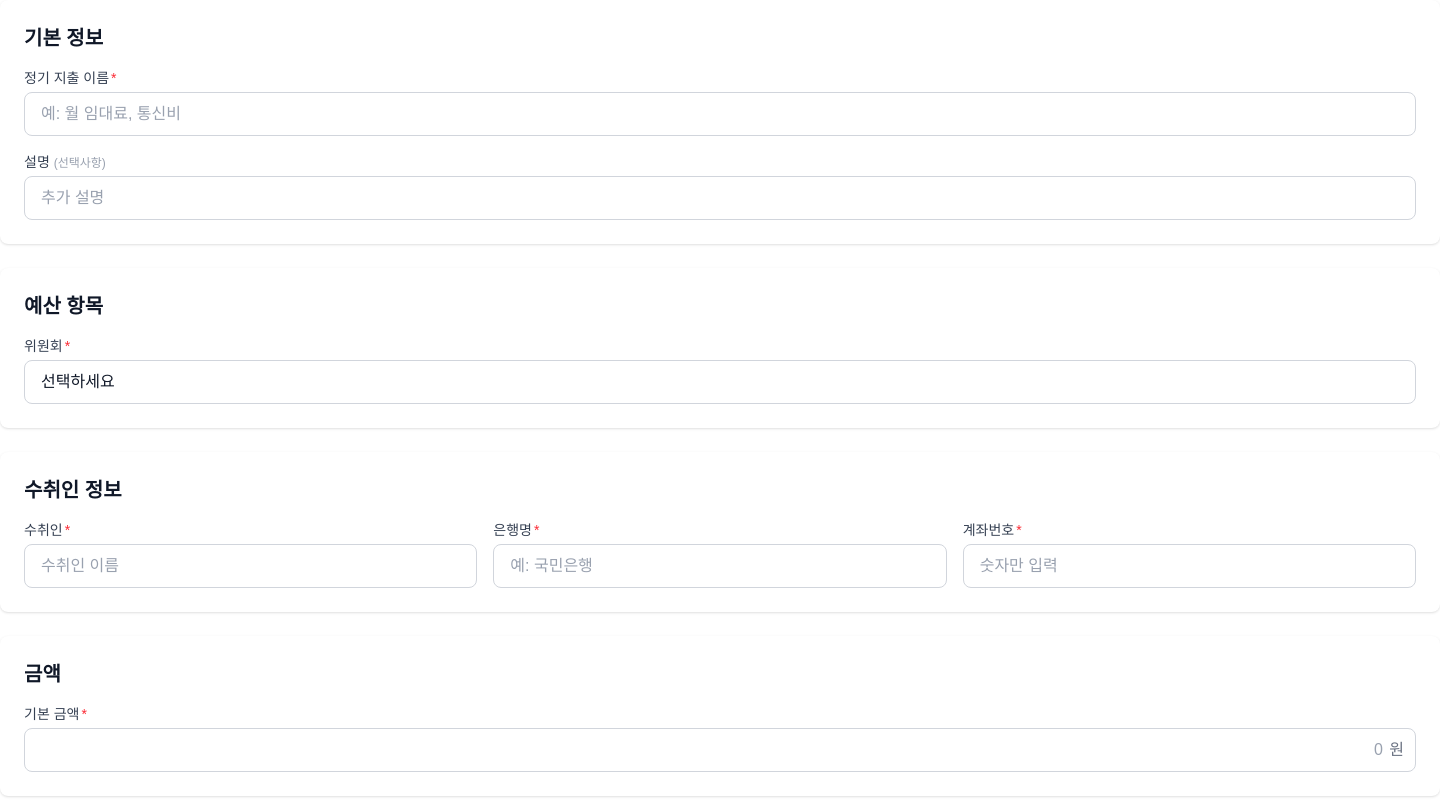
Scenario: RecurringExpenseForm › 금액 입력 › 금액 입력 시 콤마 포맷을 적용해야 함
Type "1000000" into the field labelled "기본 금액" at (720, 750), box [24,728,1416,772]
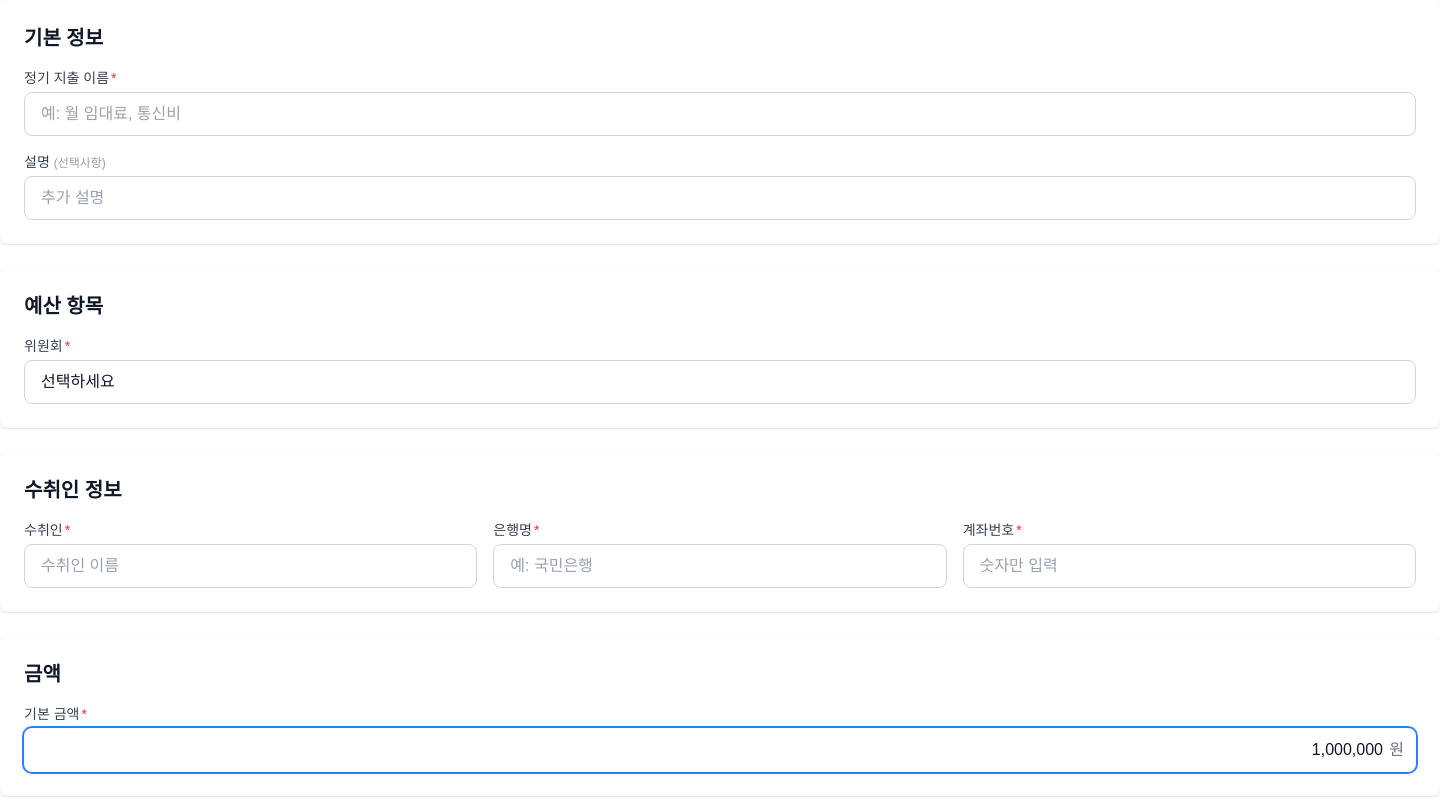
Result: the field labelled "기본 금액" holds "1,000,000" at [24,728,1416,772]
